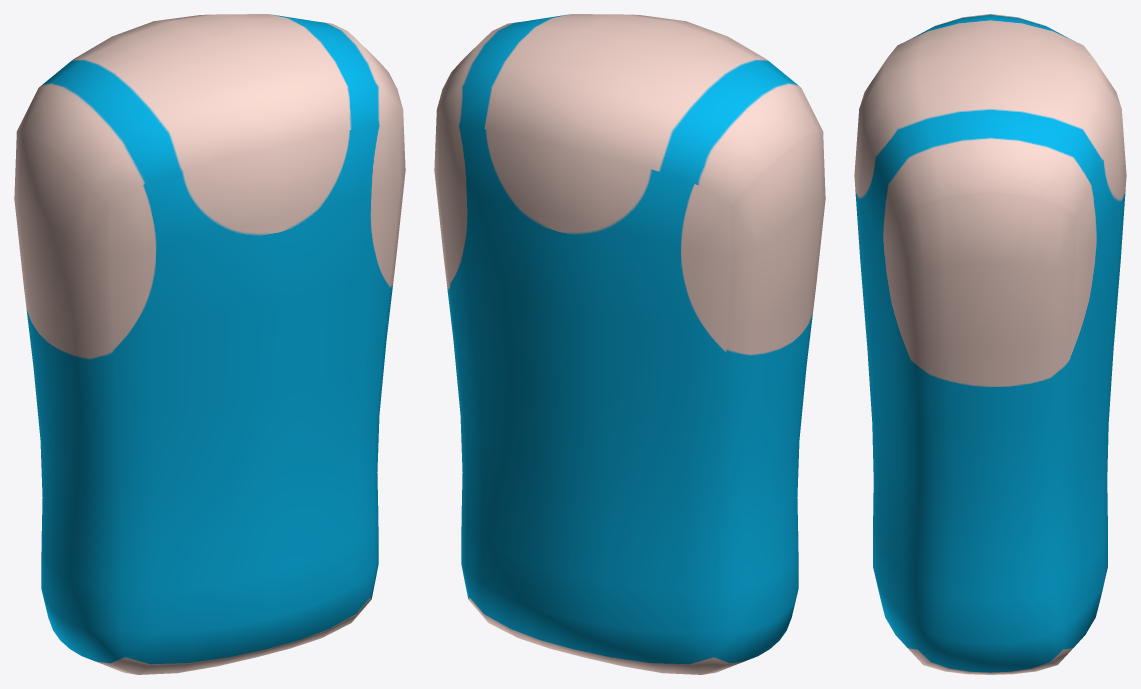
The picture shows the model from 3 angles, left to right: view 1: azimuth 30°, elevation 25°; view 2: azimuth 150°, elevation 25°; view 3: azimuth 270°, elevation 25°; orthographic projection. The views are drawn at different scales.
Visible parts, largest first — view 1: Body; view 2: Body; view 3: Body.
Part boxes in pixels (x1,y1,x2,y2): Body: (14,14,405,674); Body: (434,14,825,674); Body: (854,14,1126,674).
Bounding box in the file's own units: 41.26 × 67.4 × 29.17.
